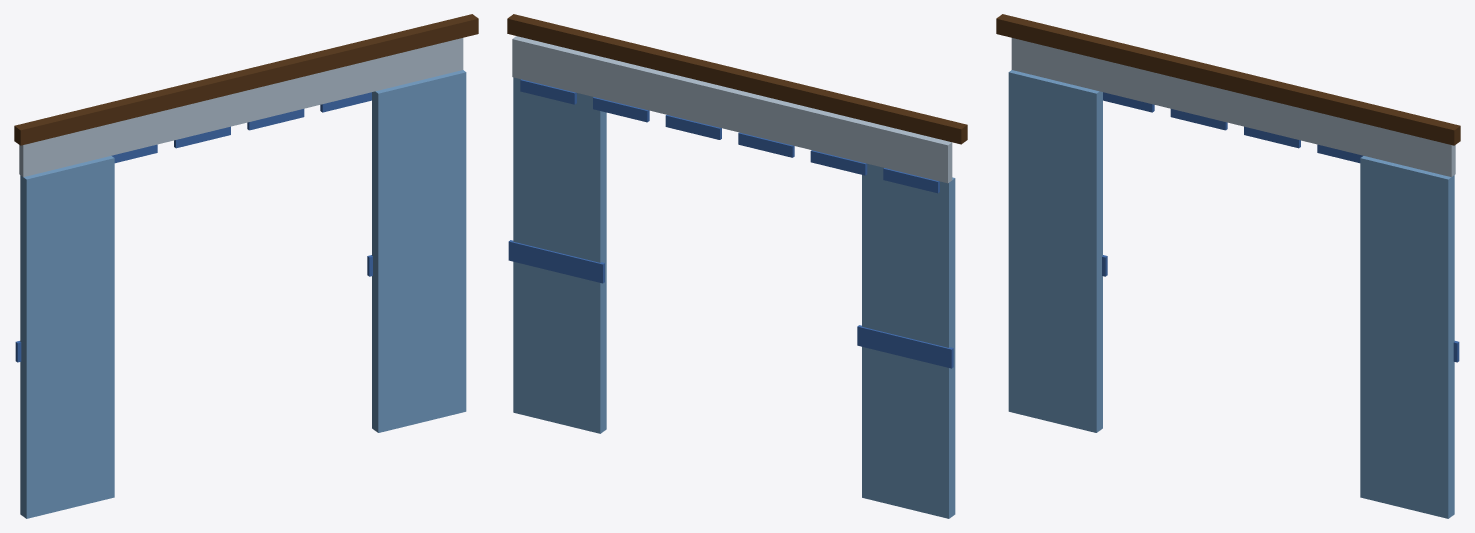
File: ncb-curtains-blue.glb
The picture shows the model from 3 angles, left to right: view 1: azimuth 30°, elevation 25°; view 2: azimuth 150°, elevation 25°; view 3: azimuth 330°, elevation 25°; orthographic projection.
Visible parts, largest first — view 1: box-prop; view 2: box-prop; view 3: box-prop.
Part boxes in pixels (left/top/right/bottom): box-prop: left=14, top=14, right=478, bottom=518; box-prop: left=507, top=14, right=967, bottom=518; box-prop: left=996, top=14, right=1460, bottom=518.
Bounding box in the file's own units: 2.5 × 2.05 × 0.11.
